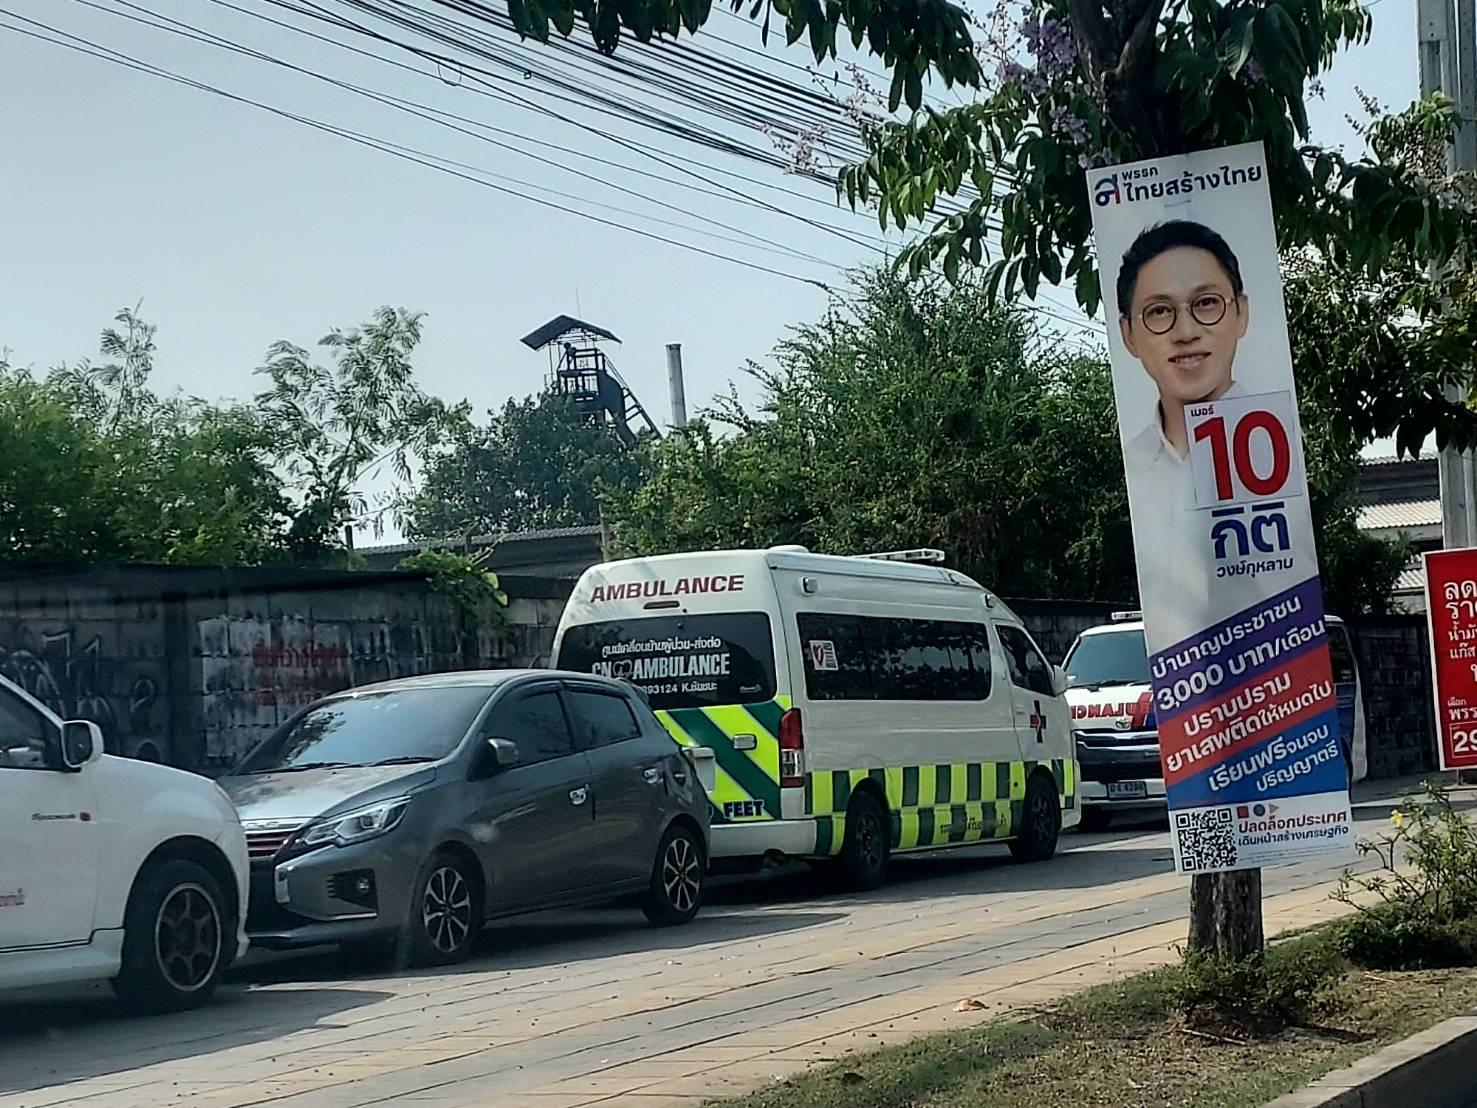Banner: (1082, 138, 1354, 873)
